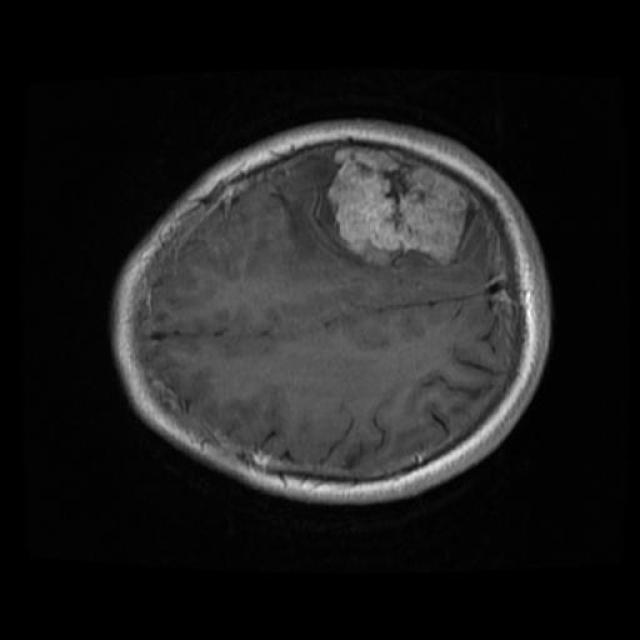Meningioma: (327, 149, 469, 264)
